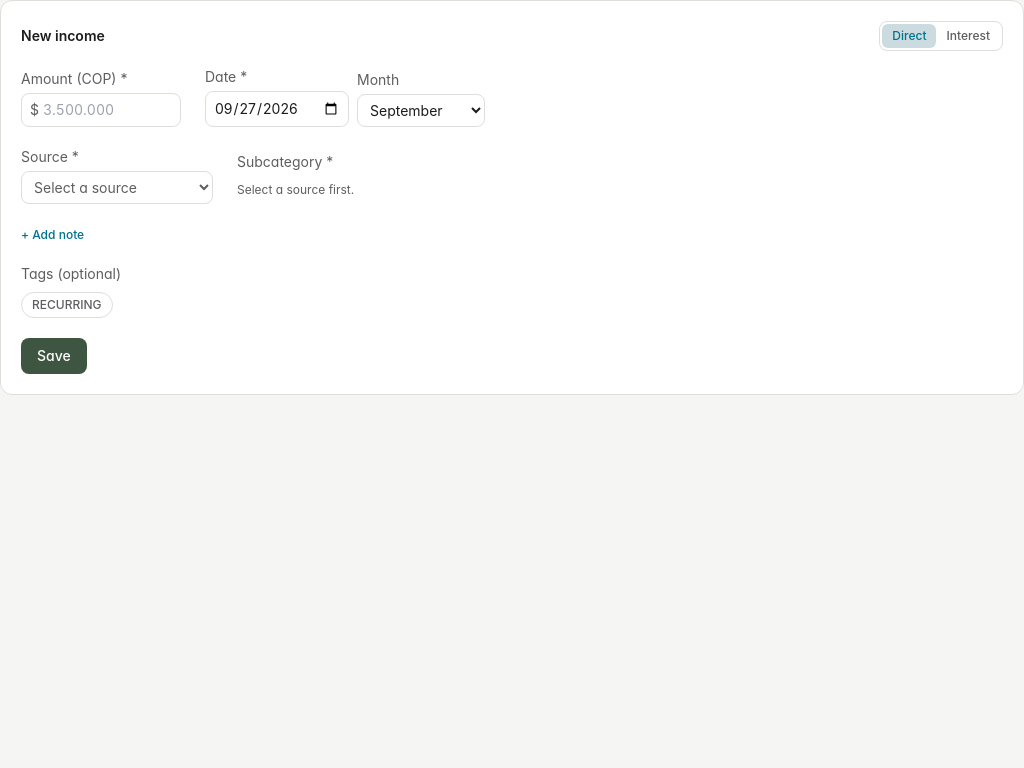
Test case: IncomeForm › pide las opciones una sola vez aunque se alterne entre direct e interest
Click the button with test id "income-kind-interest" at (968, 36), box left=936, top=24, right=1000, bottom=48
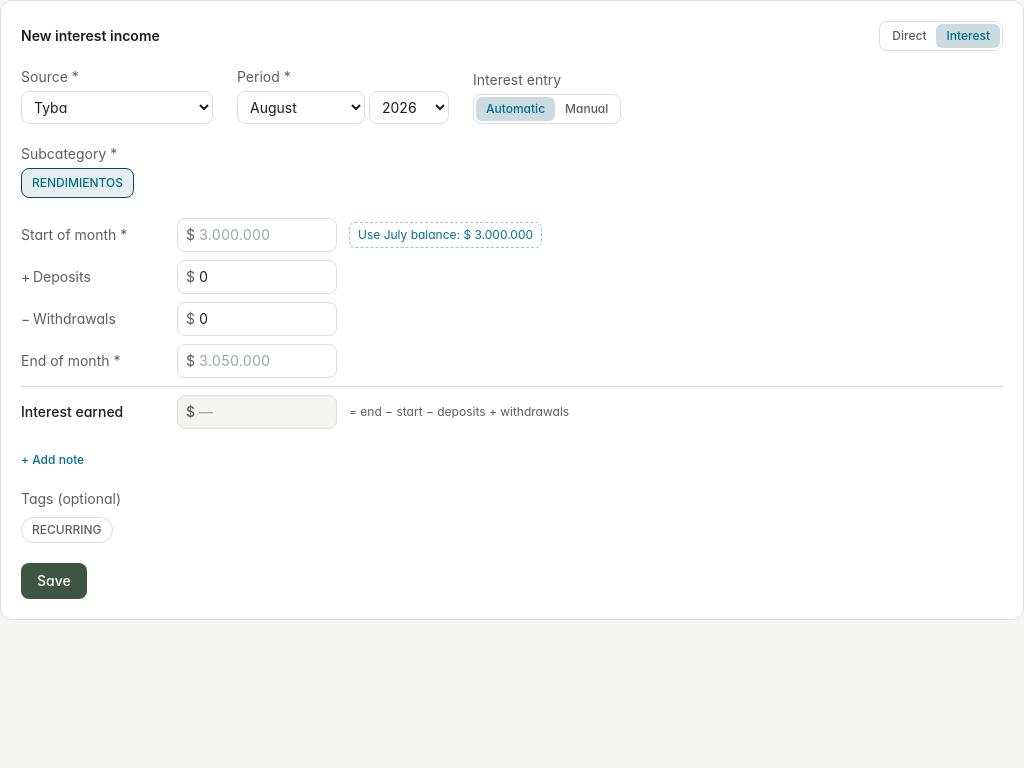
Click the button with test id "income-kind-direct" at (909, 36), box left=882, top=24, right=936, bottom=48
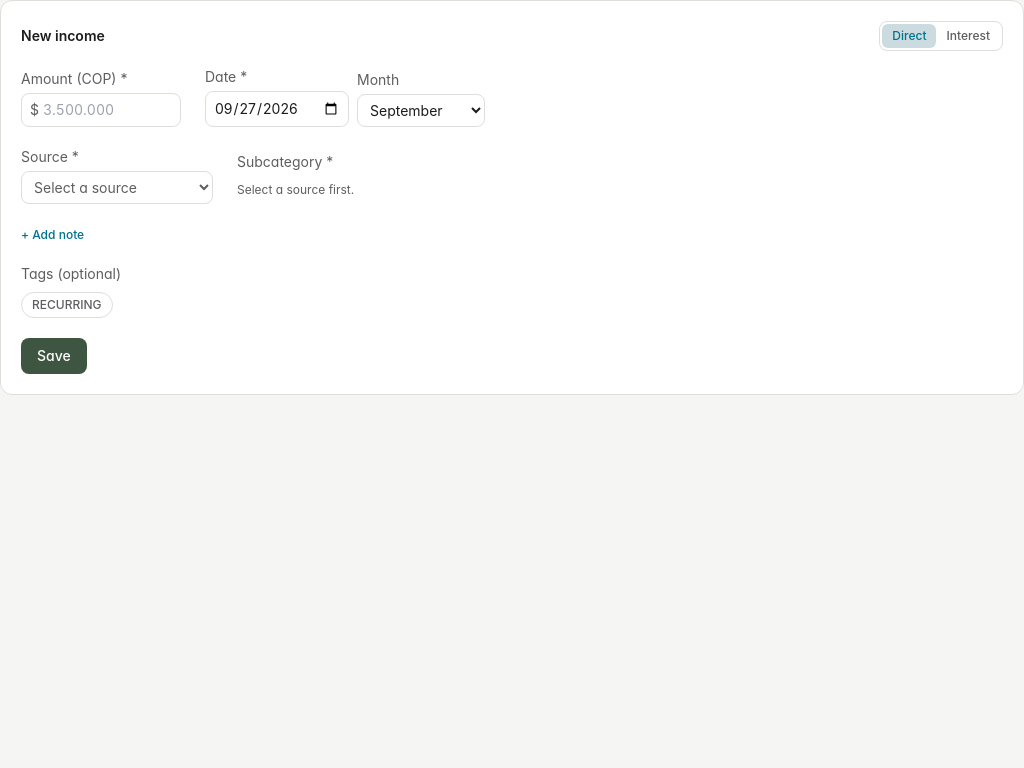
Check: the text "New income" is shown, box left=21, top=26, right=105, bottom=46
